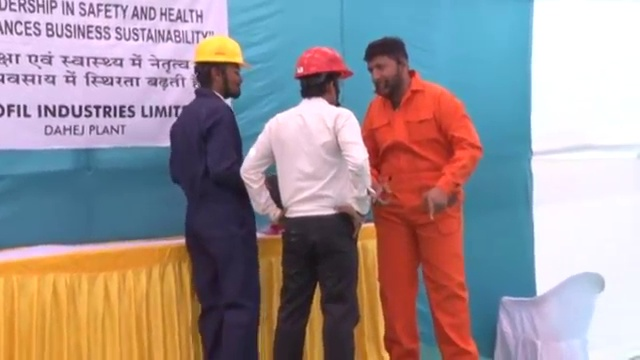helmet: (291, 44, 355, 78), (191, 34, 251, 70)
helmet_off: (362, 35, 411, 97)
helmet_on: (290, 42, 355, 107), (191, 34, 252, 100)
person: (241, 48, 371, 360), (358, 34, 482, 360), (166, 34, 259, 357)
